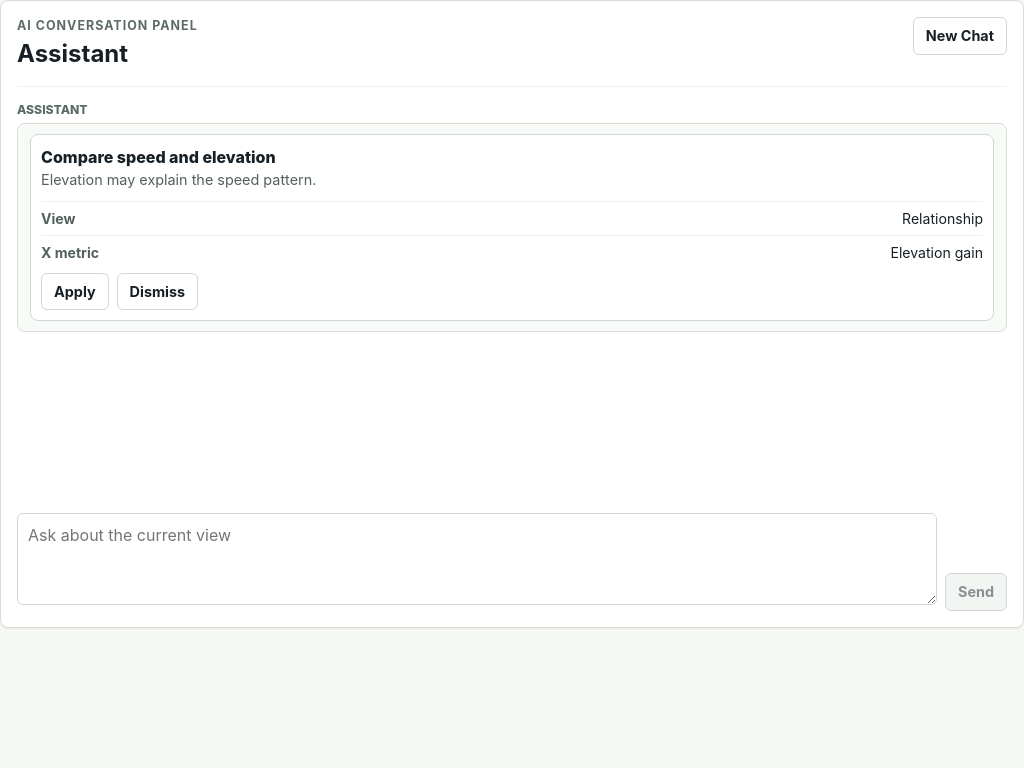
Test: ConversationPanelShell › dismisses a suggestion without applying it
Click the button "Dismiss".
click(157, 292)  # box [117,273,198,310]
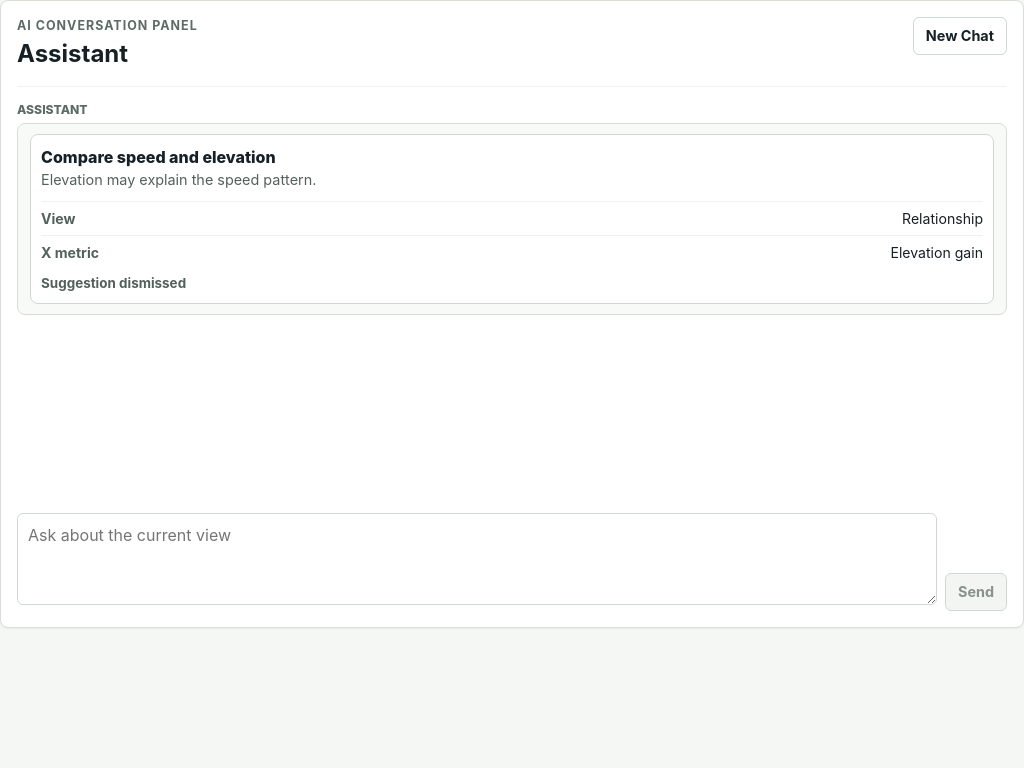
Expected: the element named "View suggestion" is shown, [30,134,994,304]
Expected: the text "Suggestion dismissed" is shown, [41,275,186,291]
Expected: the button "Apply" is gone
